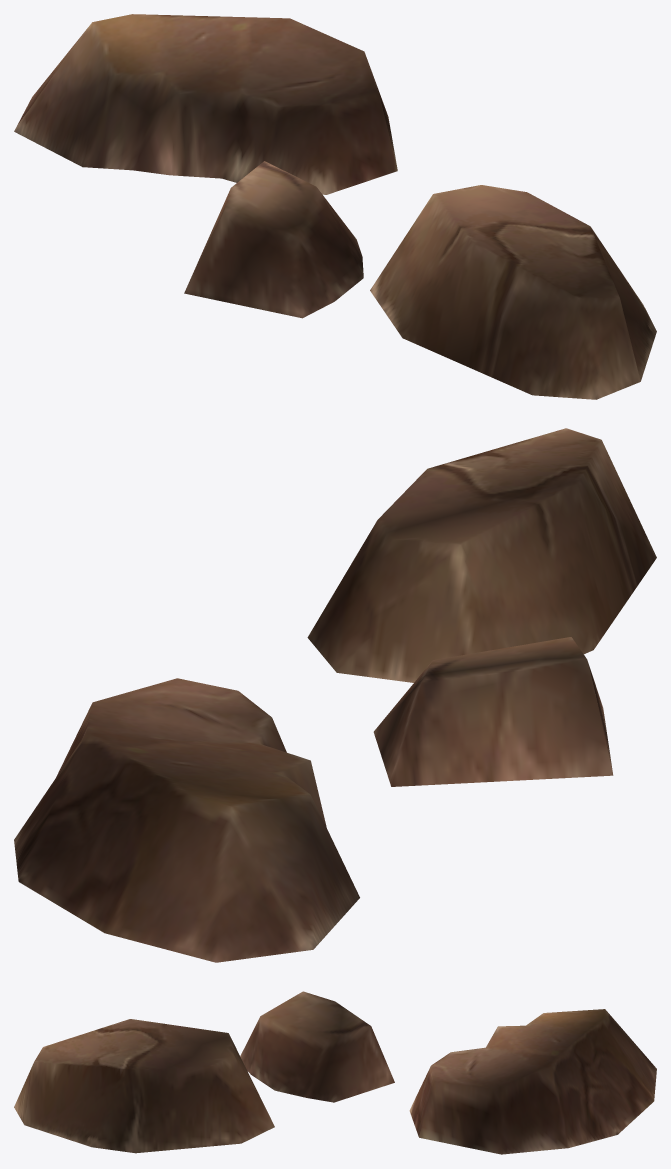
The model's file is FB5_shishan_13.FBX.
The picture shows the model from 3 angles, top to bottom: view 1: azimuth 30°, elevation 25°; view 2: azimuth 150°, elevation 25°; view 3: azimuth 270°, elevation 25°; orthographic projection. The views are drawn at different scales.
Parts seen in each view (by area): view 1: FB5_shishan_13; view 2: FB5_shishan_13; view 3: FB5_shishan_13.
Part boxes in pixels (x1,y1,x2,y2): FB5_shishan_13: (14,14,656,399); FB5_shishan_13: (14,428,656,962); FB5_shishan_13: (14,991,656,1154).
Size of the model in its own units: 11091 by 3347 by 25968.
1 material, 1 textured.
